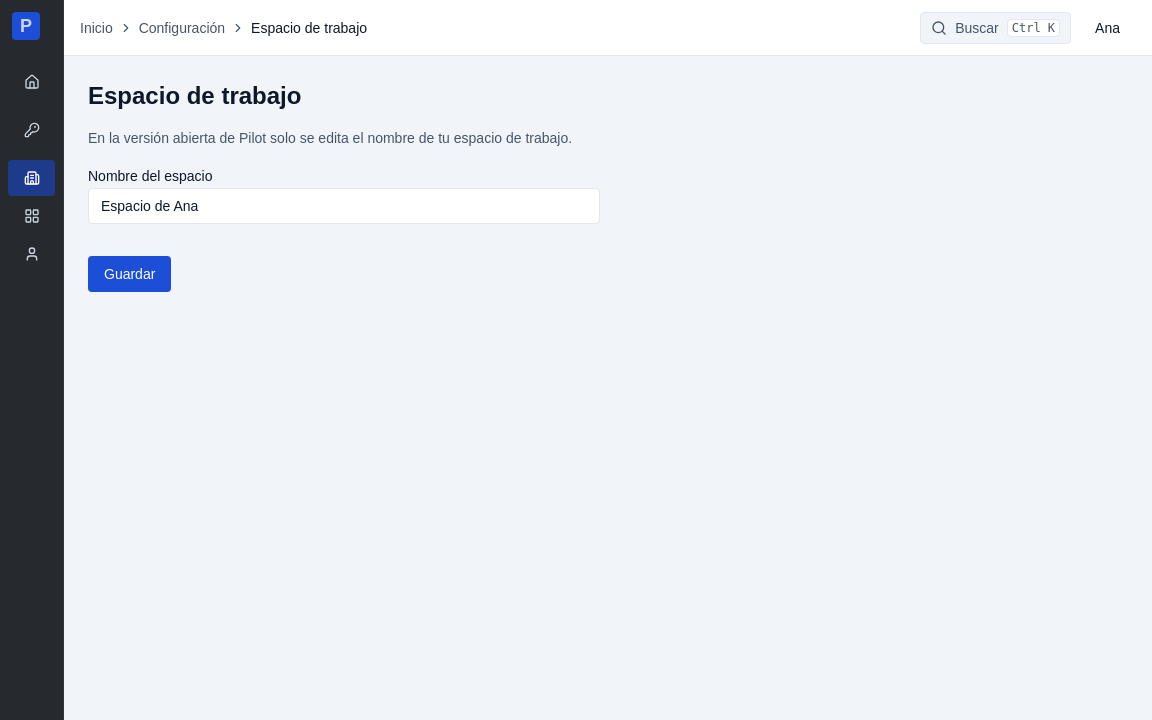
Scenario: pantalla Espacio de trabajo (ADR-032) › un 422 muestra el error en el campo
In the field labelled "Nombre del espacio": {"x": 344, "y": 206} [88,188,600,224], type " X"
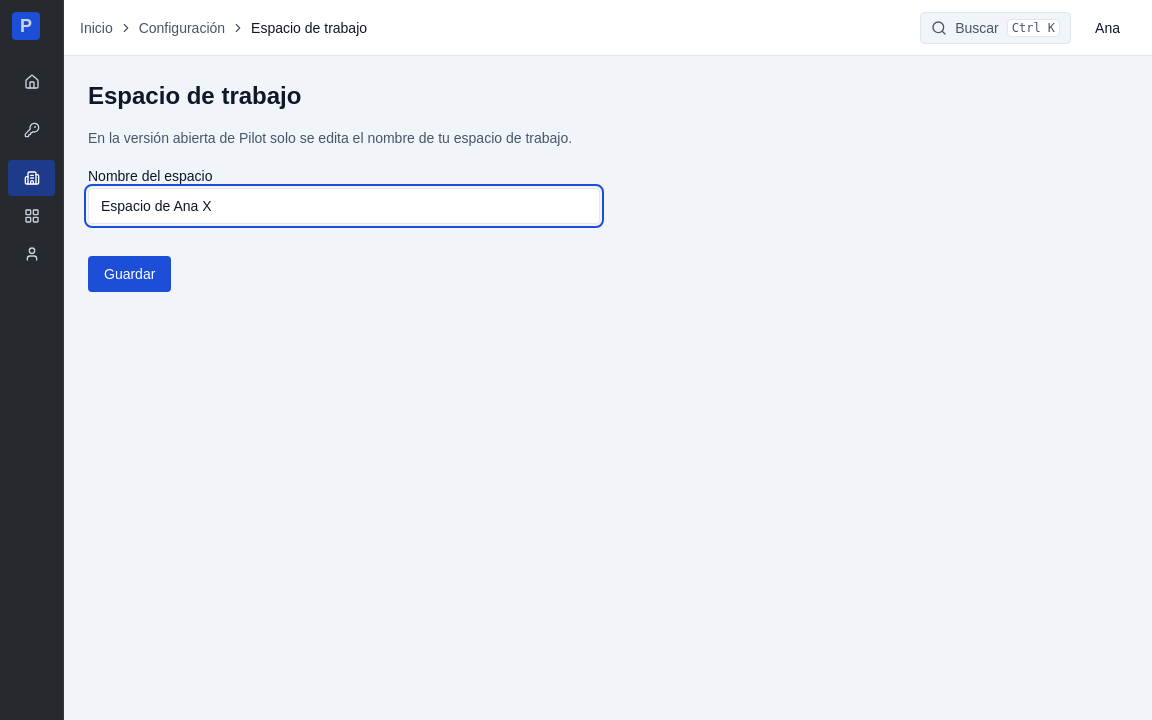
Click the button "Guardar": {"x": 130, "y": 274} [88,256,171,292]
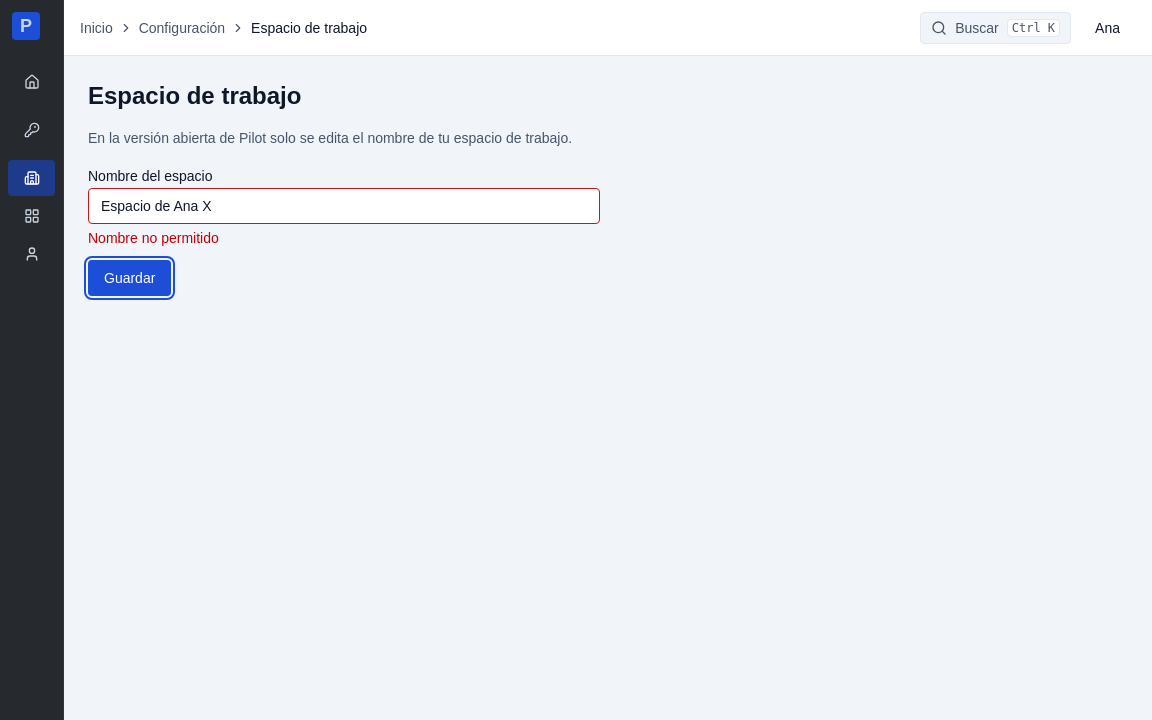
Check: the text "Nombre no permitido" is shown, box [88,230,219,246]
